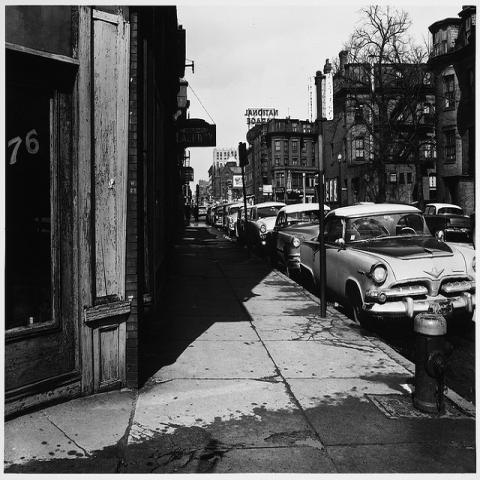car: (302, 202, 476, 332), (267, 201, 335, 284), (248, 201, 287, 252), (422, 203, 470, 236), (225, 202, 245, 237), (235, 205, 250, 245), (212, 205, 224, 229), (206, 206, 216, 226), (409, 200, 419, 210), (198, 206, 207, 216), (203, 197, 213, 204), (223, 204, 229, 215)
